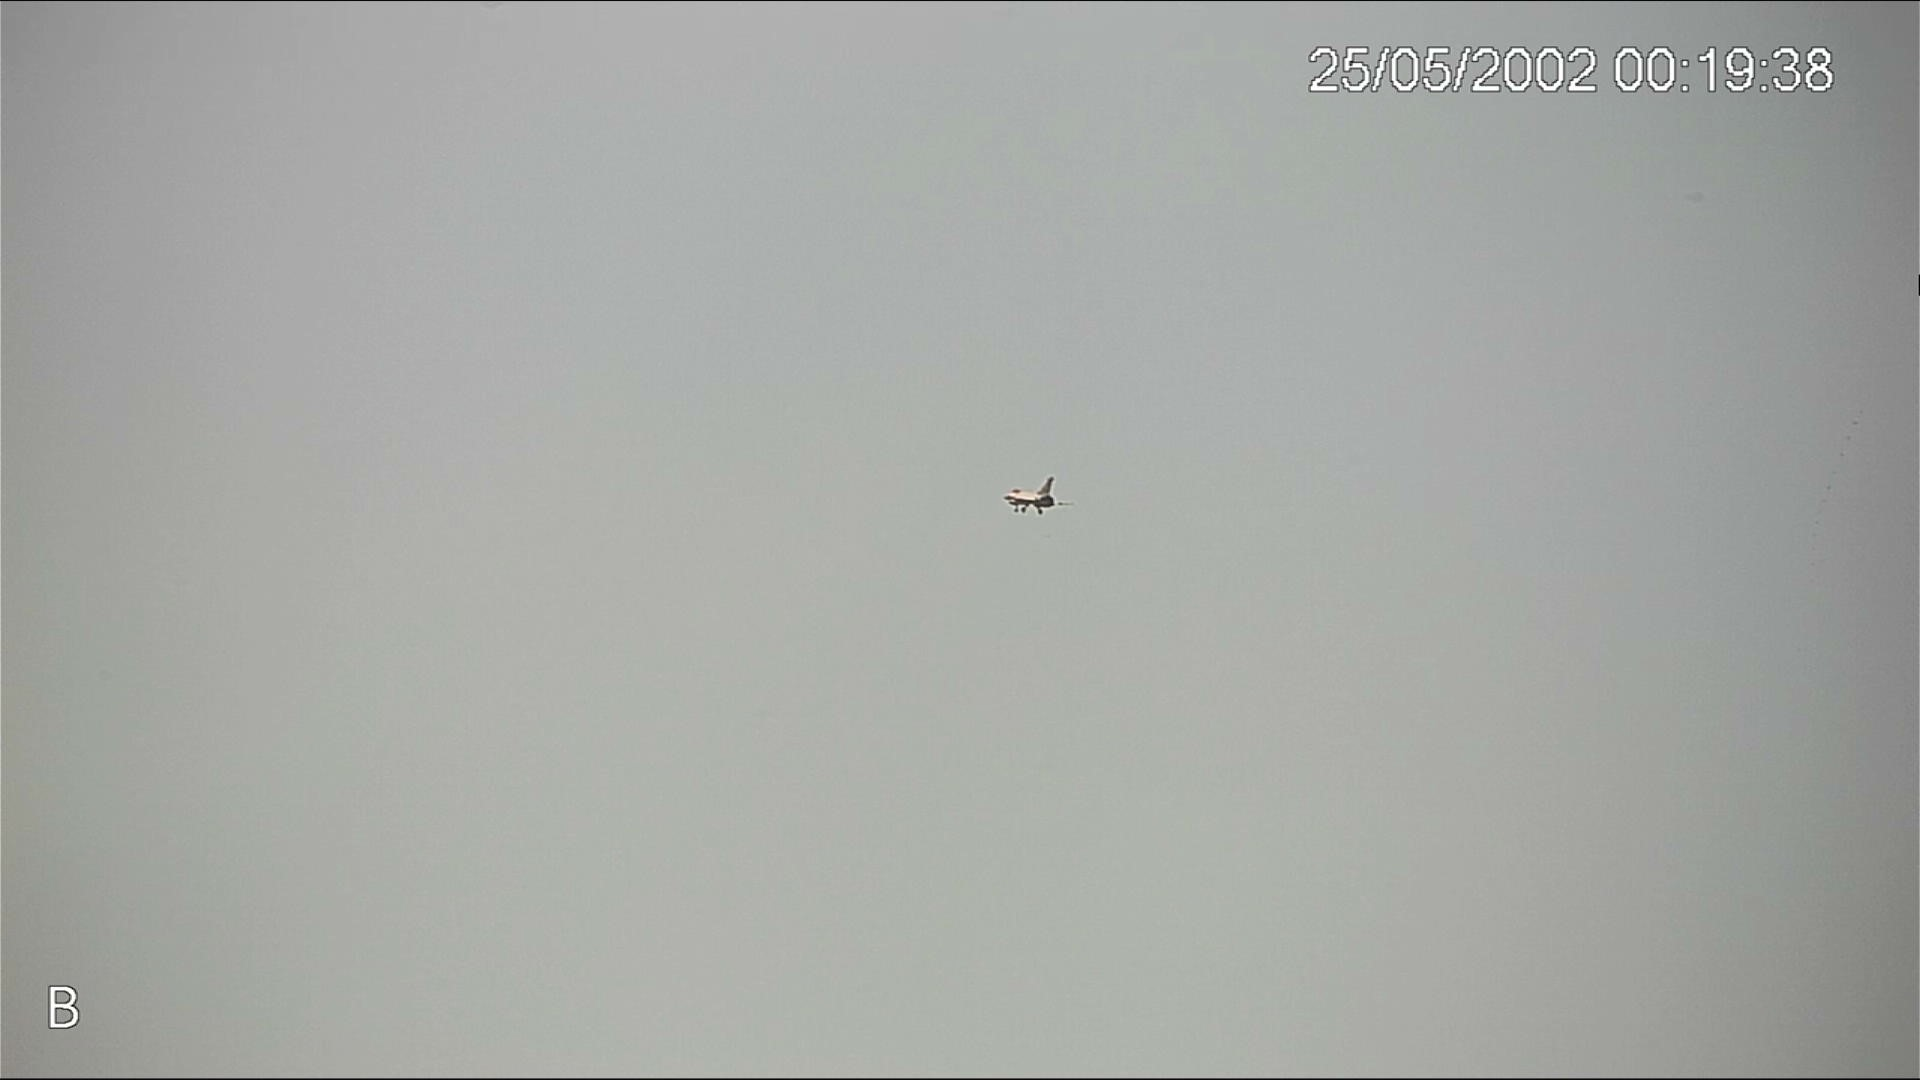SU_30: (1001, 469, 1069, 521)
